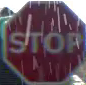Stop: (4, 0, 85, 84)
